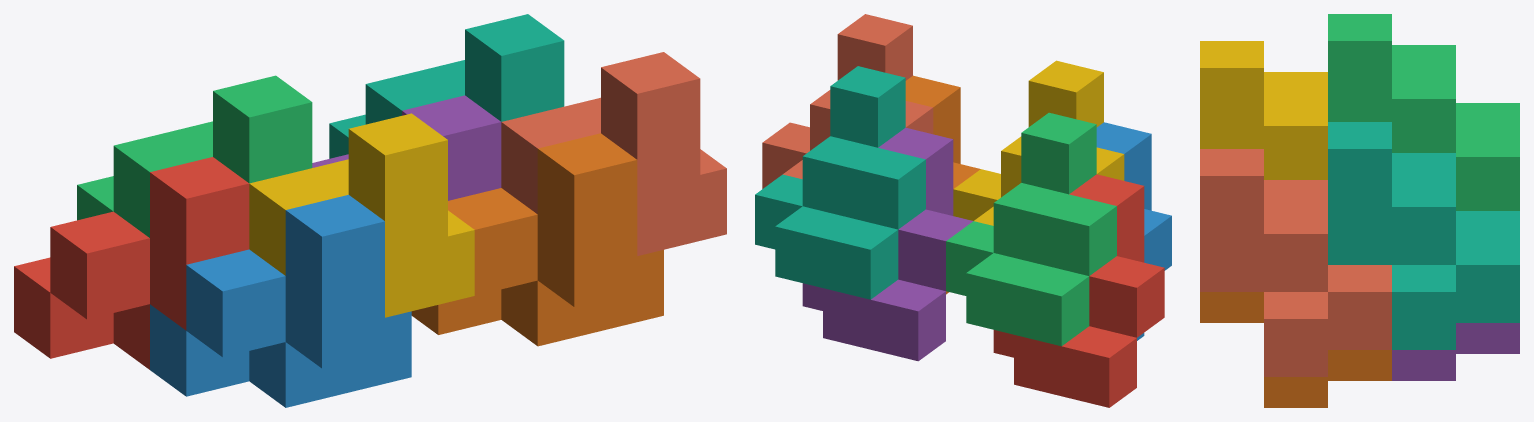
Rendered from tiling.obj.
3 views of the same model, side by side, from view 1: azimuth 30°, elevation 25°; view 2: azimuth 150°, elevation 25°; view 3: azimuth 270°, elevation 25° (orthographic). The views are drawn at different scales.
Visible parts, largest first — view 1: copy_1_domain_2, copy_1_domain_6, copy_1_domain_1, copy_1_domain_8, copy_1_domain_4, copy_1_domain_3, copy_1_domain_7, copy_1_domain_5; view 2: copy_1_domain_3, copy_1_domain_7, copy_1_domain_1, copy_1_domain_5, copy_1_domain_8, copy_1_domain_4, copy_1_domain_2, copy_1_domain_6; view 3: copy_1_domain_7, copy_1_domain_8, copy_1_domain_3, copy_1_domain_4, copy_1_domain_6, copy_1_domain_5.
Boxes of the visible parts, x1,y1,x2,y2 form: copy_1_domain_2: (150, 194, 411, 407); copy_1_domain_6: (411, 133, 663, 346); copy_1_domain_1: (14, 157, 249, 369); copy_1_domain_8: (501, 52, 726, 255); copy_1_domain_4: (249, 113, 474, 317); copy_1_domain_3: (77, 75, 312, 237); copy_1_domain_7: (329, 14, 564, 158); copy_1_domain_5: (312, 95, 501, 200); copy_1_domain_3: (946, 112, 1116, 346); copy_1_domain_7: (755, 66, 925, 299); copy_1_domain_1: (993, 174, 1164, 407); copy_1_domain_5: (802, 127, 972, 361); copy_1_domain_8: (762, 14, 933, 188); copy_1_domain_4: (953, 60, 1124, 225); copy_1_domain_2: (1096, 122, 1171, 340); copy_1_domain_6: (905, 75, 980, 294); copy_1_domain_7: (1328, 122, 1519, 349); copy_1_domain_8: (1200, 149, 1391, 376); copy_1_domain_3: (1328, 14, 1519, 210); copy_1_domain_4: (1200, 41, 1327, 179); copy_1_domain_6: (1200, 292, 1391, 407); copy_1_domain_5: (1392, 323, 1519, 380).
Bounding box in the file's own units: 9 × 4 × 5.
